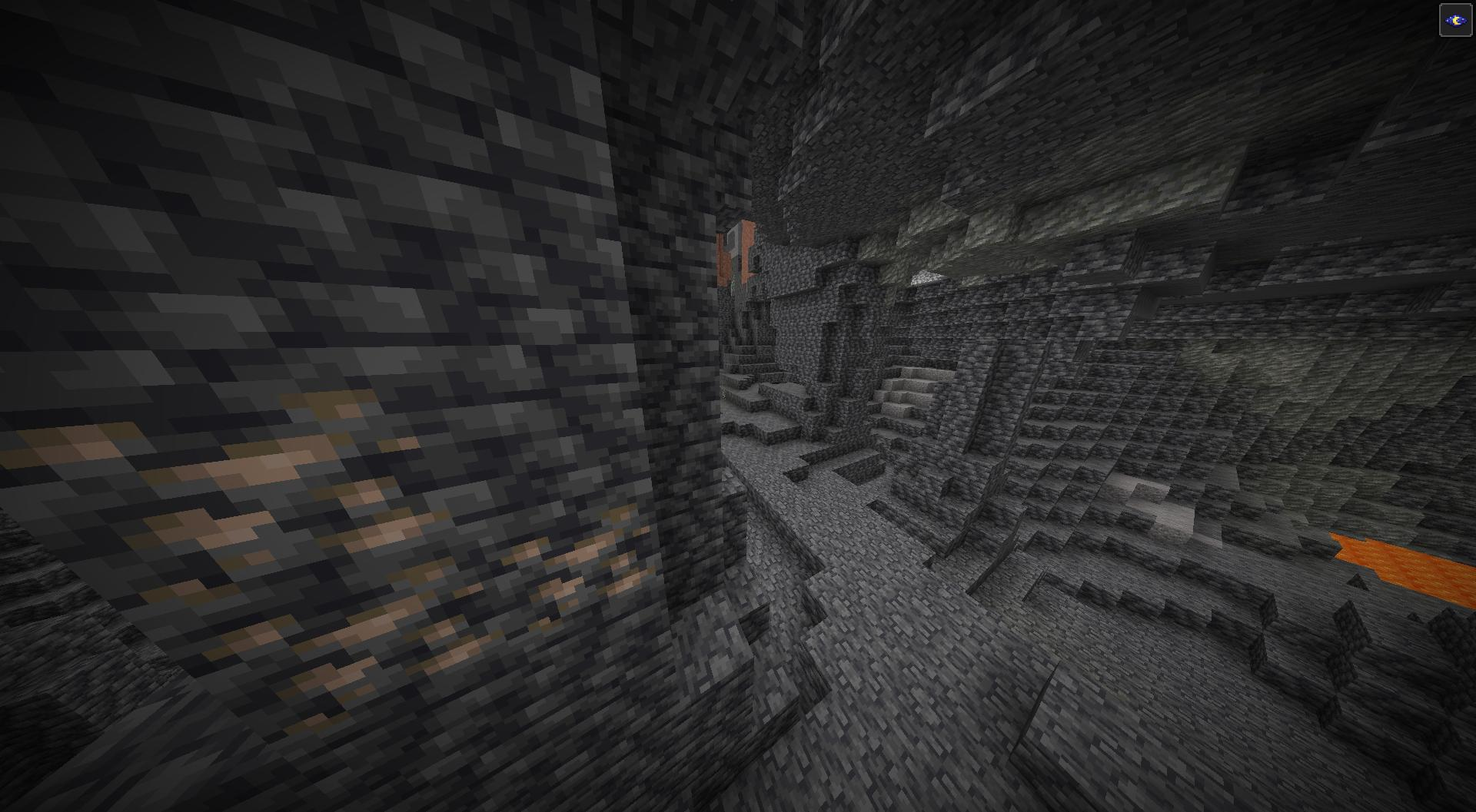iron ore: (0, 380, 449, 598), (174, 565, 507, 733), (500, 513, 663, 620)
